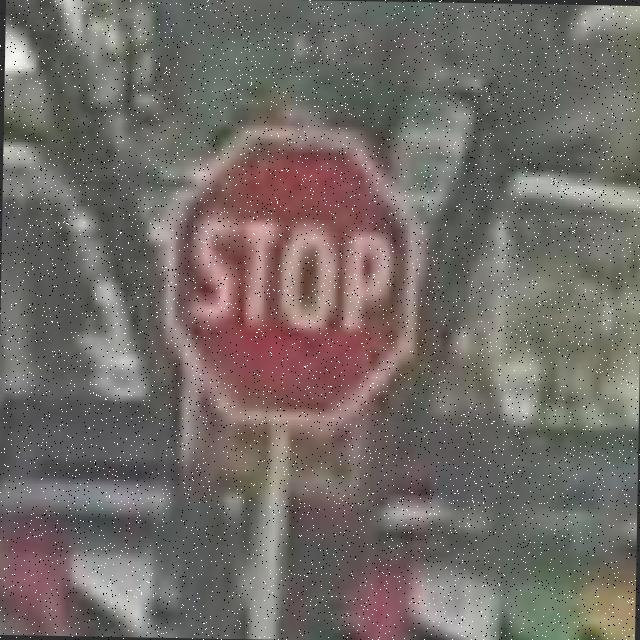Stop: (161, 136, 409, 426)
